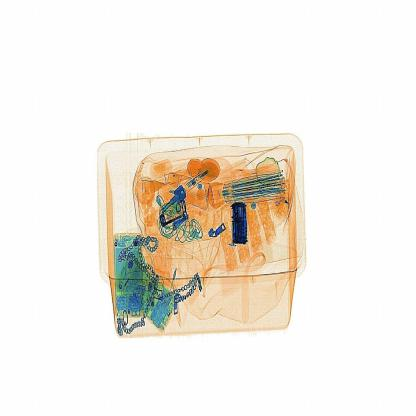scissors: (227, 196, 257, 249)
